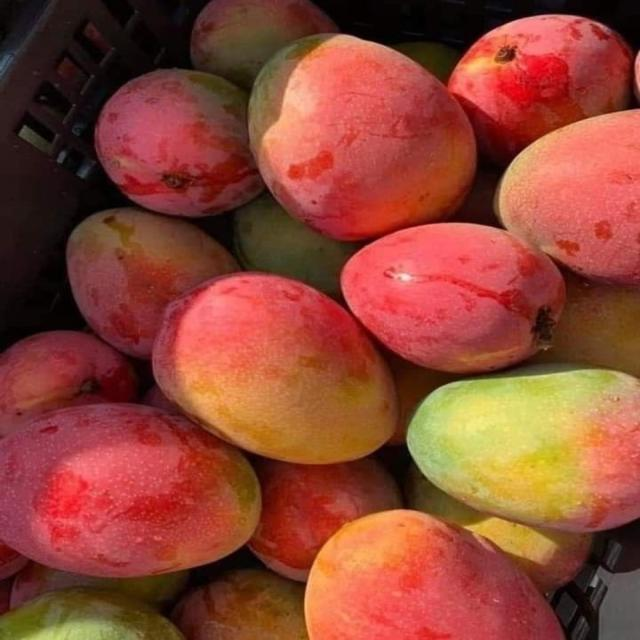mango: (153, 273, 397, 464), (249, 35, 475, 240), (0, 404, 260, 576), (408, 365, 639, 532), (342, 223, 565, 372), (305, 511, 563, 639), (448, 15, 631, 164), (67, 208, 239, 358), (496, 110, 639, 286), (96, 69, 263, 216), (405, 465, 592, 591), (192, 0, 338, 89), (234, 194, 359, 297), (531, 272, 639, 377), (172, 570, 308, 639), (0, 590, 183, 639), (392, 41, 460, 82)
